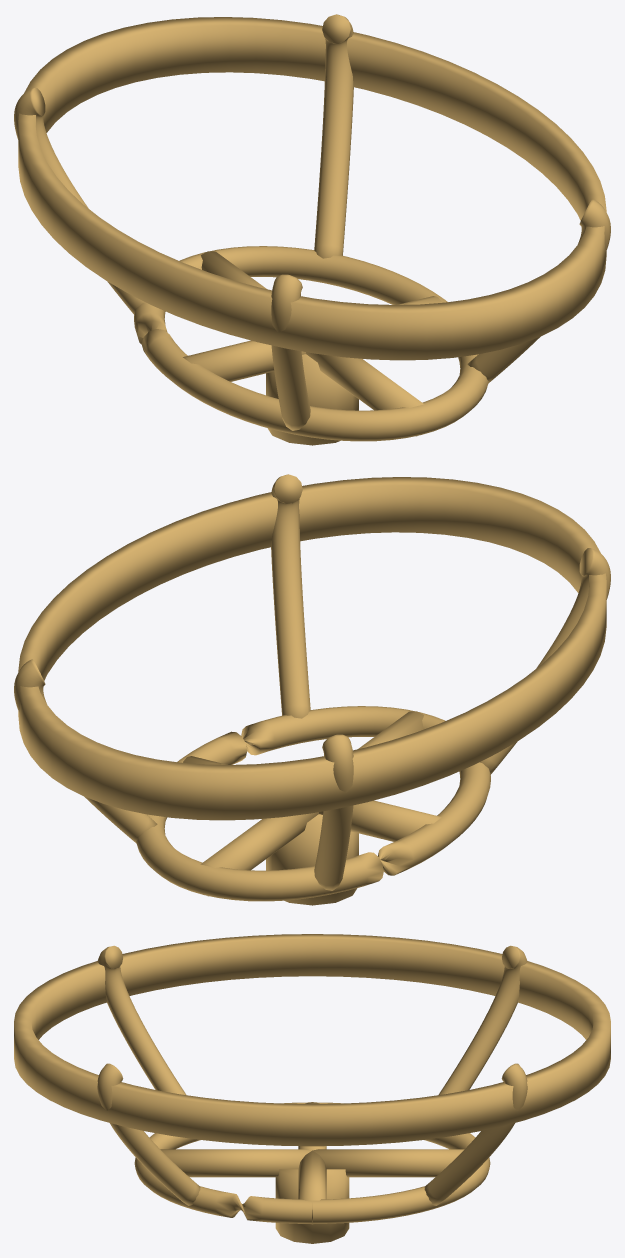
File: stuller-lg-500094542-bezel.glb
3 views of the same model, one above another, from view 1: azimuth 30°, elevation 25°; view 2: azimuth 150°, elevation 25°; view 3: azimuth 270°, elevation 25° (orthographic). The views are drawn at different scales.
Parts seen in each view (by area): view 1: Metal.061, Metal.056, Metal.062, Metal.064, Metal.060, Metal.055, Metal.059, Metal.063, Metal.065, Metal.058; view 2: Metal.061, Metal.056, Metal.065, Metal.063, Metal.058, Metal.055, Metal.059, Metal.064, Metal.062, Metal.060; view 3: Metal.061, Metal.056, Metal.064, Metal.063, Metal.058, Metal.060, Metal.062, Metal.065, Metal.055, Metal.057.
Part boxes in pixels (x1=…): Metal.061: x1=18, y1=17, x2=606, y2=360; Metal.056: x1=134, y1=246, x2=488, y2=441; Metal.062: x1=314, y1=14, x2=353, y2=258; Metal.064: x1=271, y1=274, x2=310, y2=430; Metal.060: x1=306, y1=352, x2=424, y2=436; Metal.055: x1=266, y1=354, x2=358, y2=445; Metal.059: x1=183, y1=340, x2=305, y2=381; Metal.063: x1=14, y1=88, x2=145, y2=314; Metal.065: x1=467, y1=199, x2=610, y2=383; Metal.058: x1=201, y1=251, x2=266, y2=288; Metal.061: x1=18, y1=477, x2=606, y2=820; Metal.056: x1=136, y1=706, x2=490, y2=901; Metal.065: x1=271, y1=474, x2=310, y2=718; Metal.063: x1=314, y1=734, x2=353, y2=890; Metal.058: x1=200, y1=812, x2=318, y2=896; Metal.055: x1=266, y1=814, x2=358, y2=905; Metal.059: x1=319, y1=800, x2=441, y2=841; Metal.064: x1=479, y1=548, x2=610, y2=774; Metal.062: x1=14, y1=659, x2=157, y2=843; Metal.060: x1=358, y1=711, x2=423, y2=748; Metal.061: x1=14, y1=934, x2=610, y2=1146; Metal.056: x1=134, y1=1102, x2=490, y2=1223; Metal.064: x1=97, y1=945, x2=186, y2=1095; Metal.063: x1=438, y1=945, x2=527, y2=1095; Metal.058: x1=313, y1=1149, x2=464, y2=1177; Metal.060: x1=160, y1=1149, x2=311, y2=1177; Metal.062: x1=424, y1=1063, x2=527, y2=1205; Metal.065: x1=97, y1=1063, x2=200, y2=1205; Metal.055: x1=275, y1=1169, x2=349, y2=1243; Metal.057: x1=298, y1=1150, x2=326, y2=1224.
Size of the model in its own units: 6.75 by 4.01 by 9.73.
